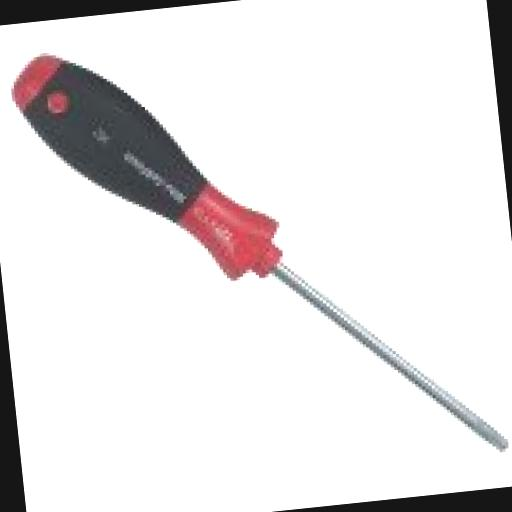screwdriver: (6, 9, 508, 500)
